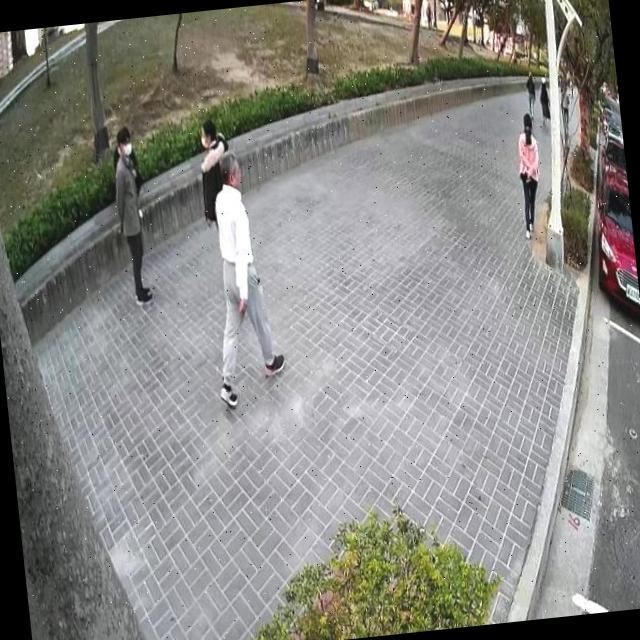person: (188, 141, 294, 417), (104, 120, 154, 310), (192, 110, 238, 233), (508, 107, 548, 239), (518, 66, 538, 120), (534, 70, 552, 126), (558, 82, 574, 131), (422, 0, 435, 31)
